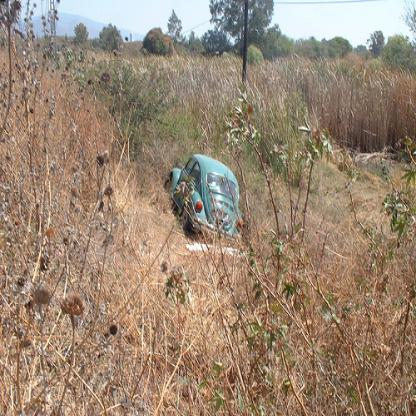car: (164, 152, 243, 242)
